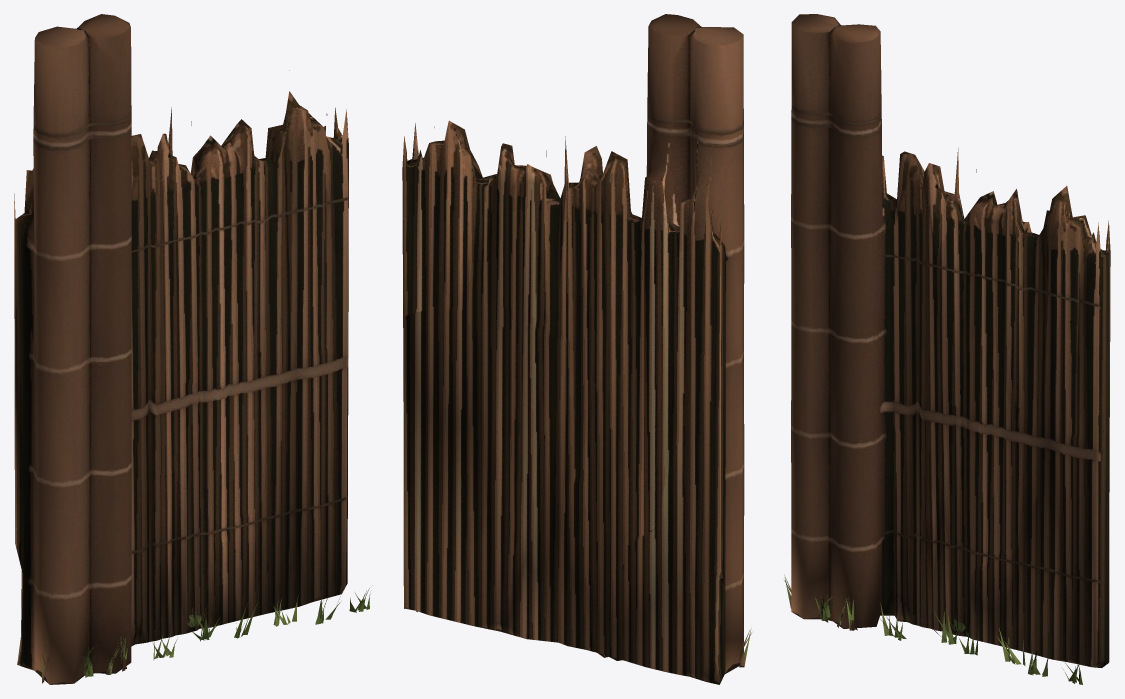
Rendered from fence_reed_end_w_pair.glb.
3 renders of one model, left to right at view 1: azimuth 30°, elevation 25°; view 2: azimuth 150°, elevation 25°; view 3: azimuth 330°, elevation 25°, orthographic. The views are drawn at different scales.
Visible parts, largest first — view 1: fence_reed_end_w_pair_lod0; view 2: fence_reed_end_w_pair_lod0; view 3: fence_reed_end_w_pair_lod0.
Boxes of the visible parts, x1,y1,x2,y2 form: fence_reed_end_w_pair_lod0: (14,14,370,684); fence_reed_end_w_pair_lod0: (402,14,751,684); fence_reed_end_w_pair_lod0: (784,14,1110,684).
Size of the model in its own units: 1.01 by 1.87 by 0.2021.
Materials: 1 (1 with a texture image).
